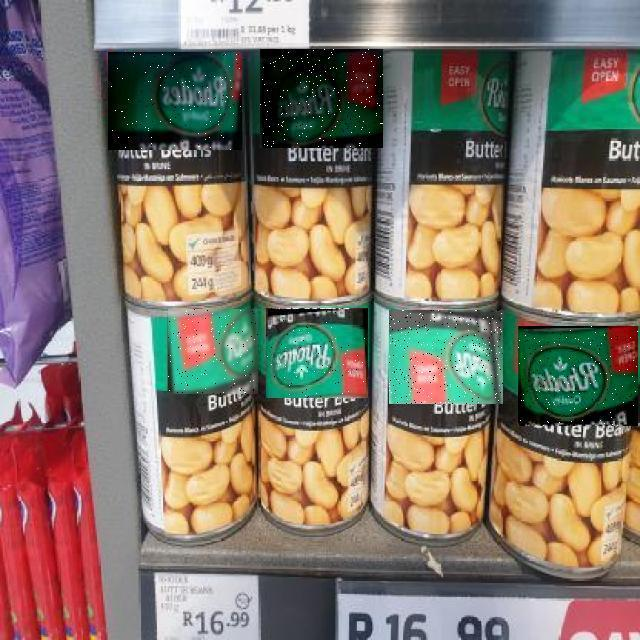Beans: (109, 52, 243, 150), (260, 49, 383, 148), (519, 326, 639, 426), (389, 311, 503, 405), (266, 308, 368, 398), (168, 309, 258, 394)
